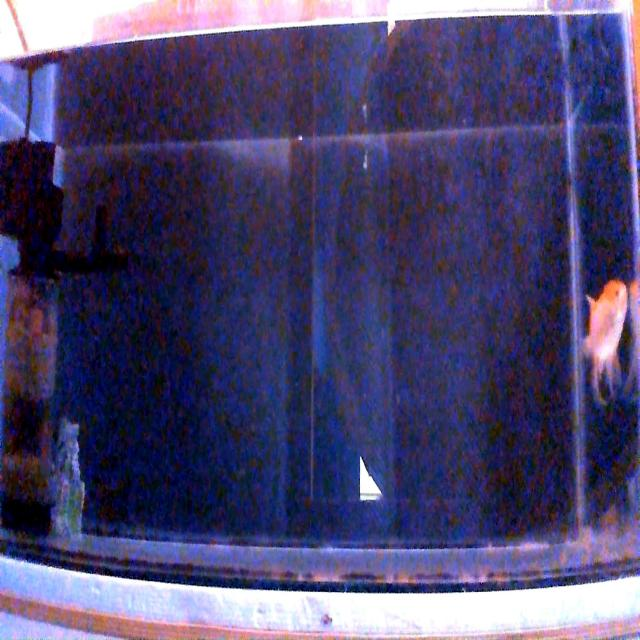fish: (582, 277, 630, 403), (626, 279, 640, 322)
